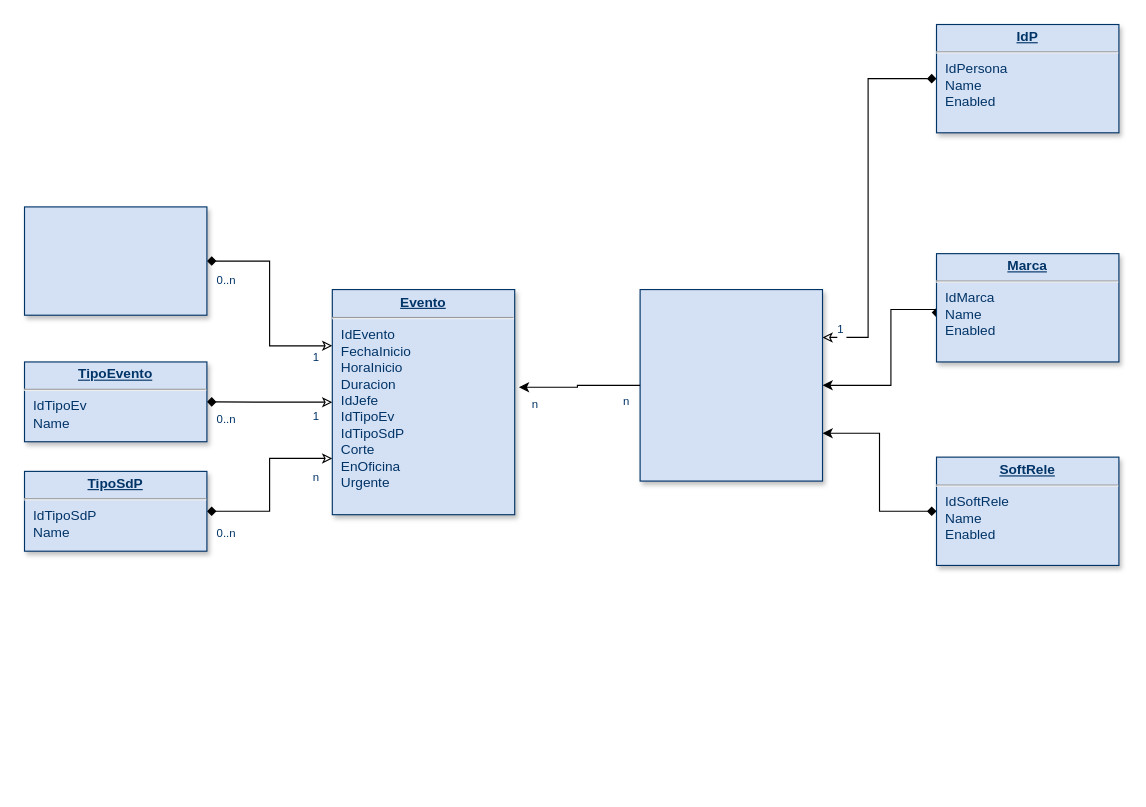
This 1146x807 diagram has some shape labels left out. The centre of each missing label's shape, as x and y in pixels:
Jefes IdJefe Name Enabled: (x=116, y=262)
Participante IdEvento IdIdP TSetup TDownload TAnalisis IdMarca IdSoftRele Obs: (x=731, y=386)
